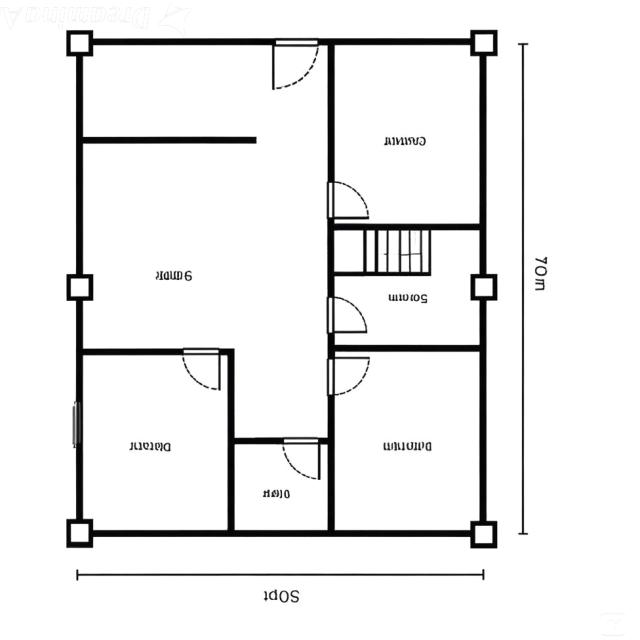Blueprint: (62, 28, 501, 554)
column: (60, 510, 101, 556), (464, 514, 506, 554), (61, 264, 99, 306), (61, 27, 99, 59), (468, 272, 502, 304), (468, 26, 500, 58)
wall: (94, 530, 471, 538), (478, 299, 488, 522), (75, 56, 84, 274), (94, 37, 276, 47), (479, 56, 487, 274), (76, 301, 84, 519), (336, 342, 480, 354), (318, 36, 471, 46), (83, 136, 257, 144), (326, 394, 336, 530), (334, 222, 479, 231), (326, 46, 334, 182), (228, 349, 234, 530), (83, 348, 183, 356), (327, 218, 334, 298), (235, 436, 285, 446), (328, 332, 335, 360), (318, 437, 328, 446), (218, 348, 228, 356)
